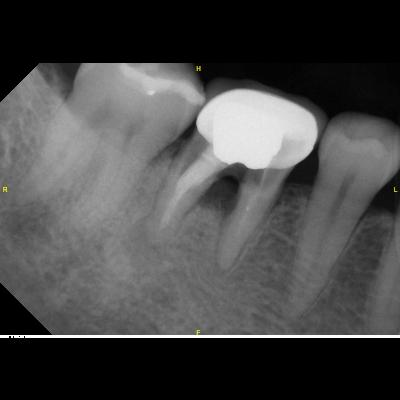tooth: (276, 108, 400, 328)
